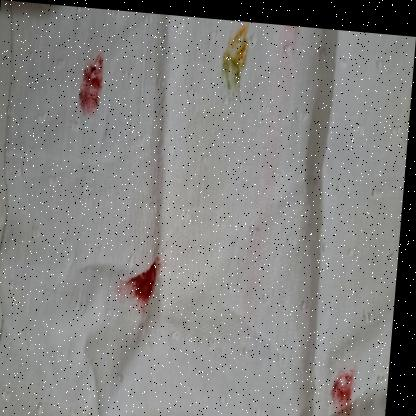spot: (215, 19, 254, 99), (120, 252, 171, 309), (76, 40, 109, 127), (331, 356, 367, 415)
